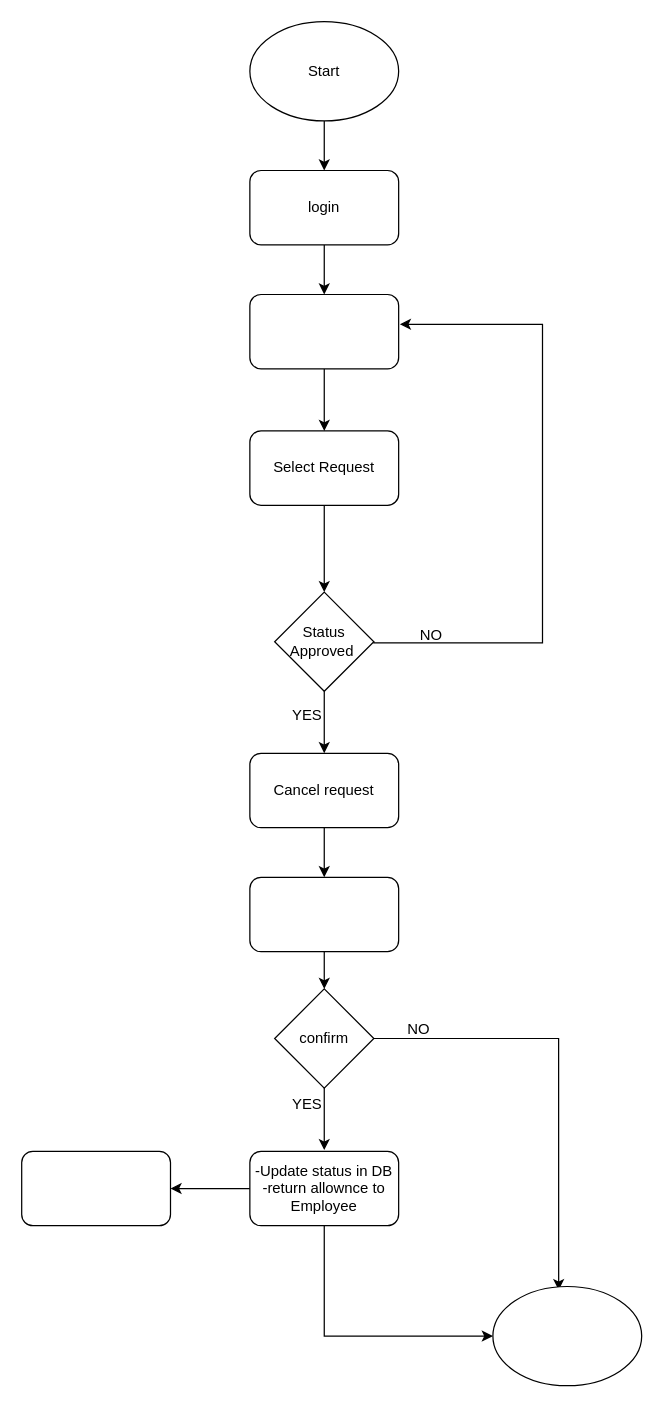
Image size: 663x1407. Some labels were removed from this diagram. Here are the shapes that lost their labels. From the top down, the centre of each, then its label:
At point 324,331: "VTS HomePage All request".
At point 324,914: "Confirm Cancel".
At point 95,1188: "Send Email notification to Manager".
At point 567,1335: "END".
